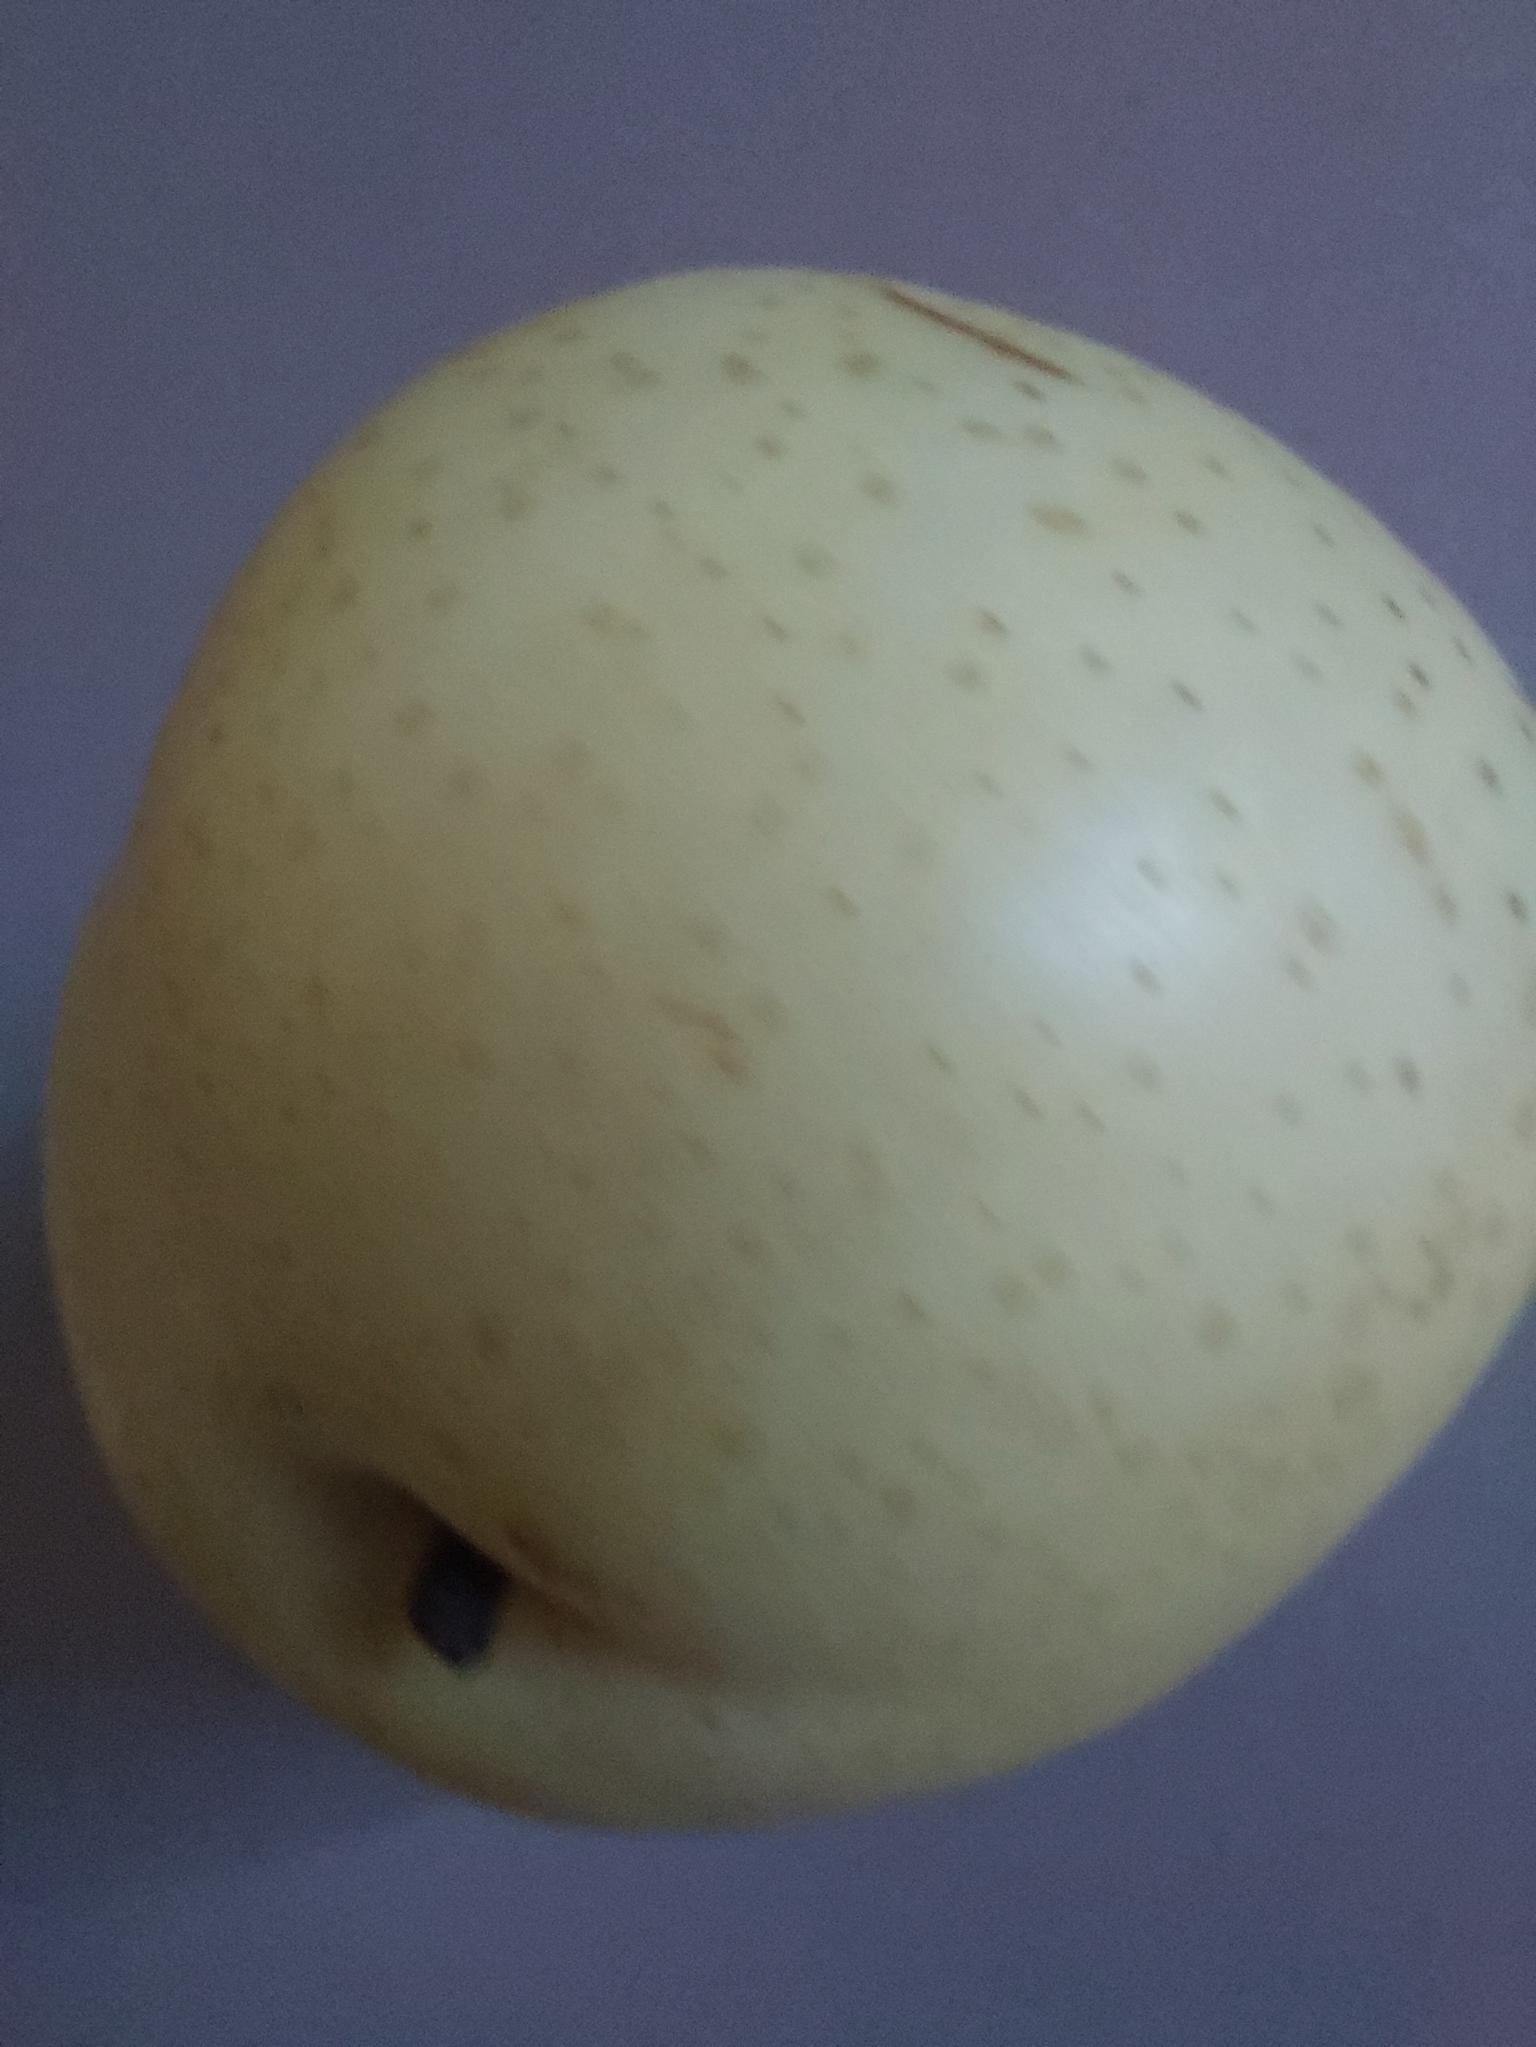Good Pear: (35, 260, 1536, 1842)
